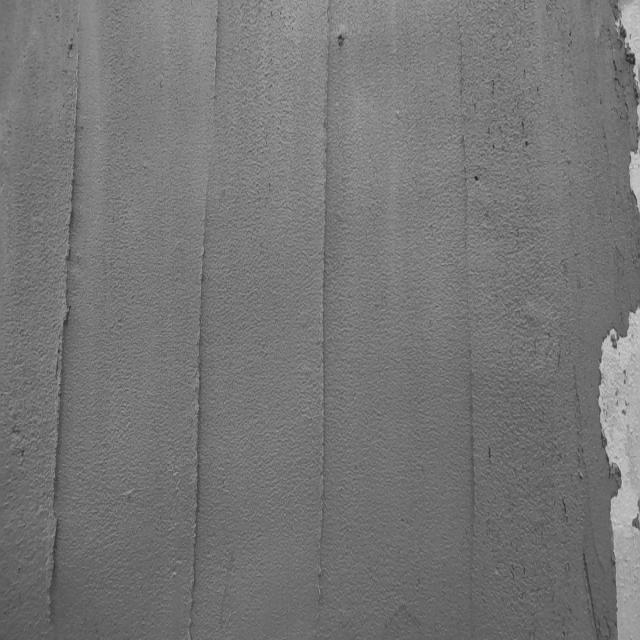trowels marks: (186, 10, 222, 640), (46, 15, 82, 640), (458, 23, 482, 638), (310, 13, 332, 629)
